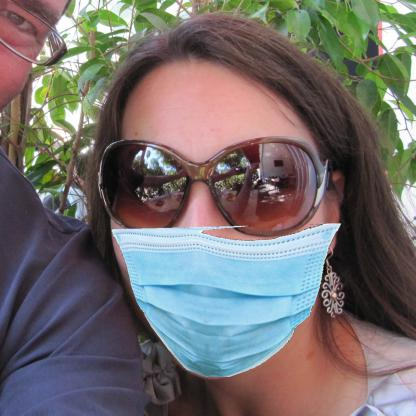Correctly_Masked: (99, 58, 336, 382)
